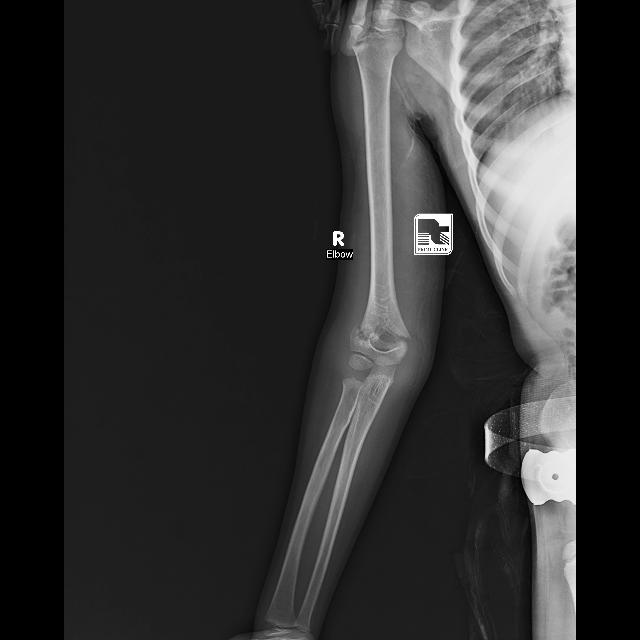Fracture: (350, 318, 414, 350)
